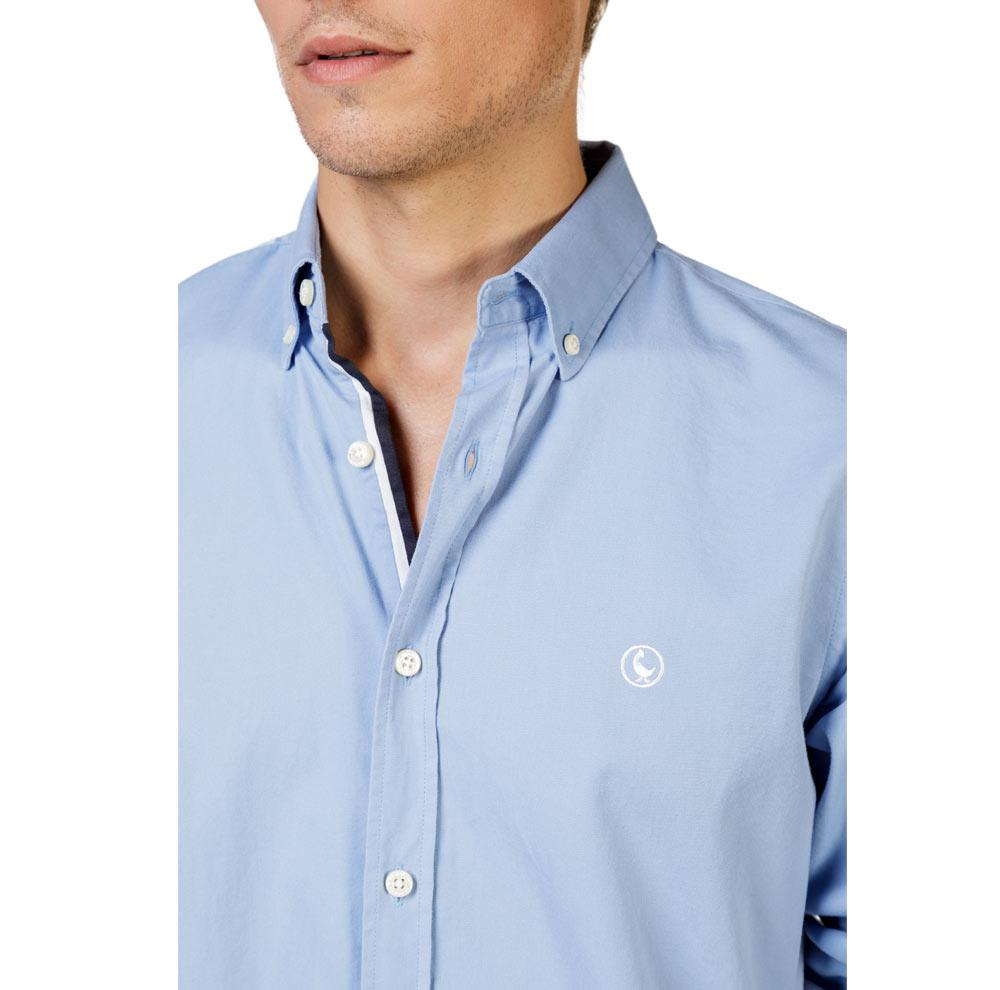teeshirt: (156, 134, 856, 990)
